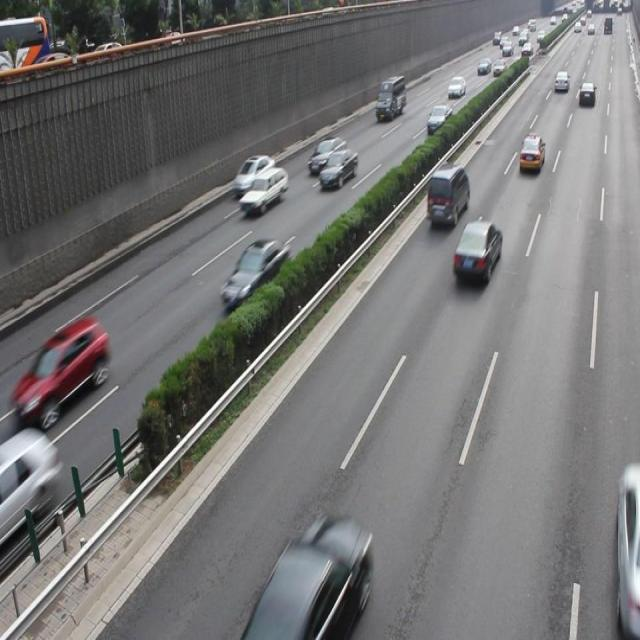car: (248, 515, 370, 640), (22, 316, 109, 422), (219, 236, 290, 309), (614, 464, 640, 625), (452, 218, 502, 282), (239, 166, 288, 213), (231, 153, 274, 195), (318, 149, 357, 188), (307, 136, 345, 176)
truck: (426, 162, 470, 225)
